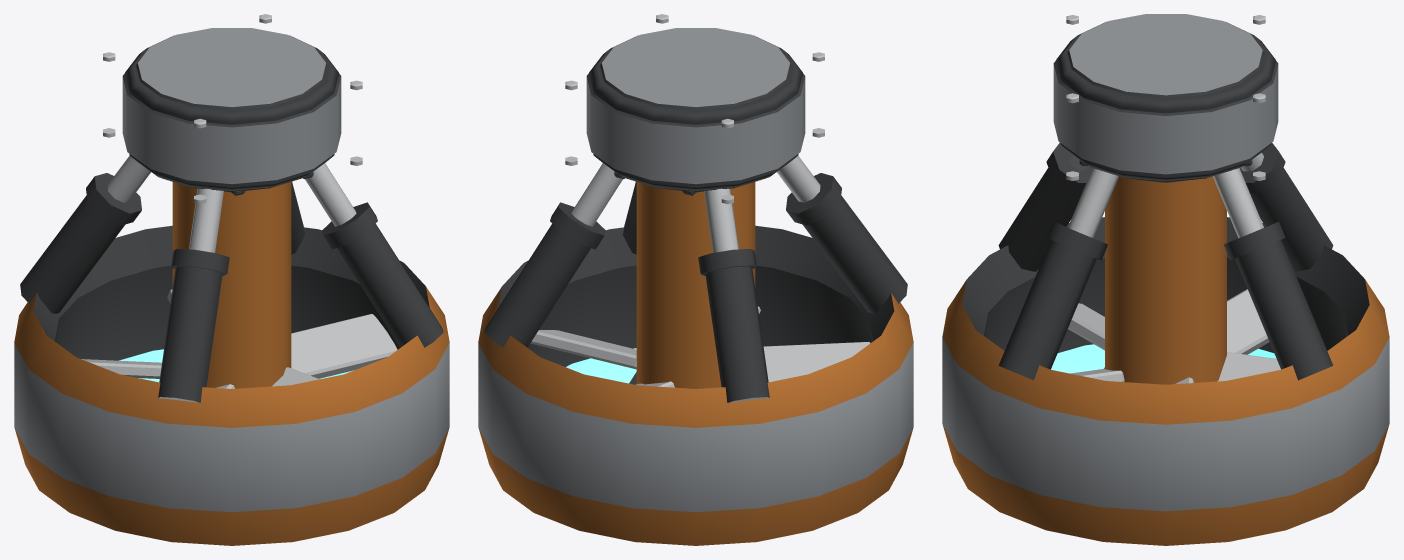
Rendered from R4X_HoverEngine.fbx.
3 views of the same model, side by side, from view 1: azimuth 30°, elevation 25°; view 2: azimuth 150°, elevation 25°; view 3: azimuth 270°, elevation 25° (orthographic). The views are drawn at different scales.
Parts seen in each view (by area): view 1: R4X_HoverEngine_Body, R4X_HoverEngine_Fan; view 2: R4X_HoverEngine_Body, R4X_HoverEngine_Fan; view 3: R4X_HoverEngine_Body, R4X_HoverEngine_Fan.
Part boxes in pixels (bbox=[...]): R4X_HoverEngine_Body: bbox=[14, 14, 449, 545]; R4X_HoverEngine_Fan: bbox=[81, 289, 397, 388]; R4X_HoverEngine_Body: bbox=[478, 14, 913, 545]; R4X_HoverEngine_Fan: bbox=[530, 306, 870, 387]; R4X_HoverEngine_Body: bbox=[942, 14, 1389, 545]; R4X_HoverEngine_Fan: bbox=[1068, 289, 1280, 384].
Size of the model in its own units: 0.5131 by 0.52 by 0.5146.
